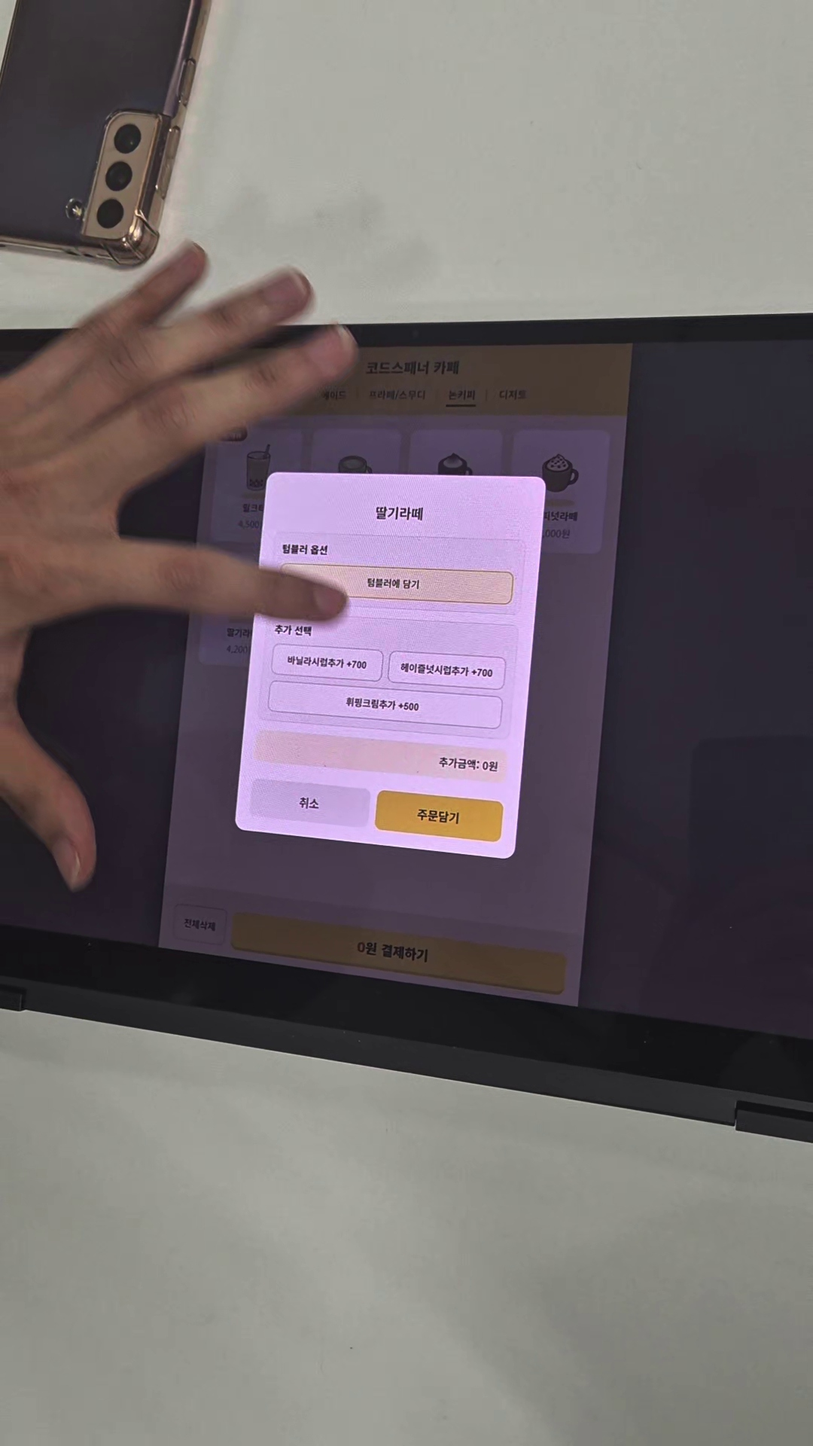action_button: (232, 909, 573, 994), (374, 791, 504, 843), (249, 776, 370, 827), (175, 903, 231, 944)
category_tab: (367, 389, 427, 402), (446, 389, 478, 402), (497, 389, 528, 401), (319, 389, 348, 401)
menu_back: (502, 429, 609, 554), (208, 425, 303, 548), (199, 553, 297, 670)
menu_name: (371, 505, 426, 524), (531, 511, 579, 523), (225, 626, 261, 641), (238, 501, 268, 516)
menu_price: (236, 518, 266, 533), (536, 528, 573, 540), (226, 643, 256, 655)
option_button: (268, 681, 503, 729), (277, 563, 513, 604), (388, 652, 506, 690), (271, 643, 383, 681)
popup_modal: (233, 471, 546, 857)
